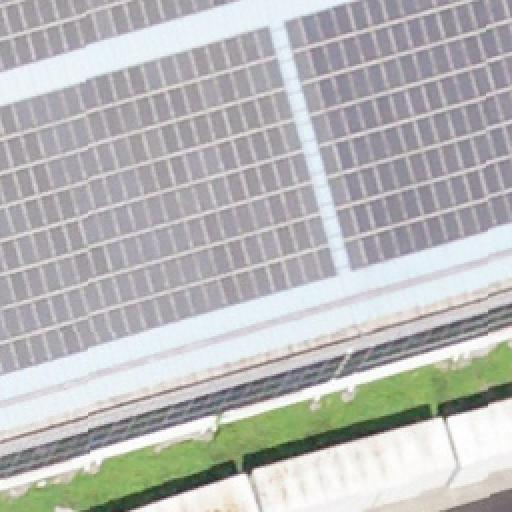solar-panel: (0, 25, 340, 375), (284, 1, 512, 271), (1, 0, 247, 72)
